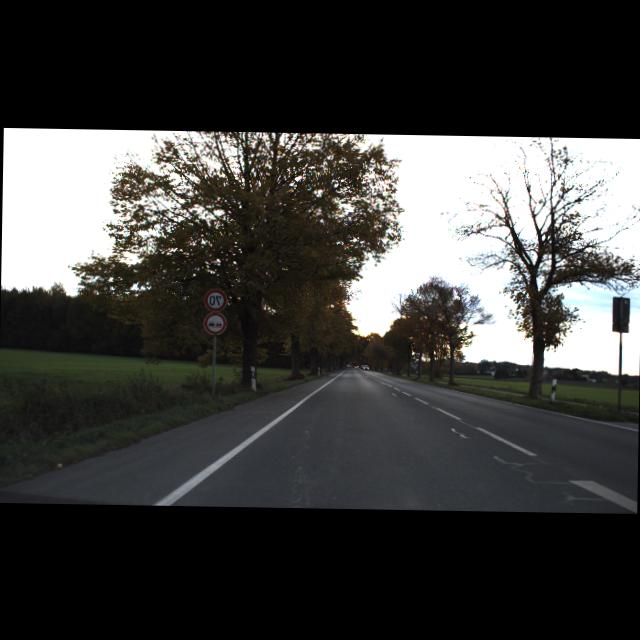prohibitory: (204, 288, 227, 310), (204, 311, 226, 333)
